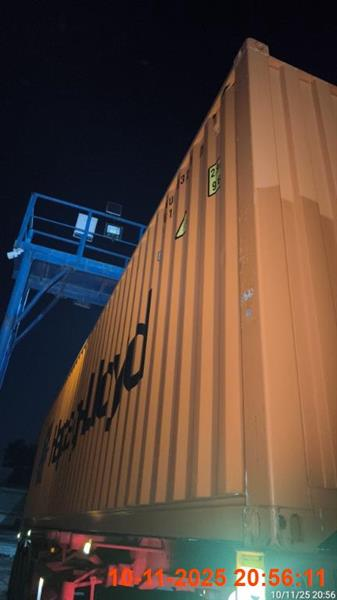broken: (7, 38, 335, 599)
